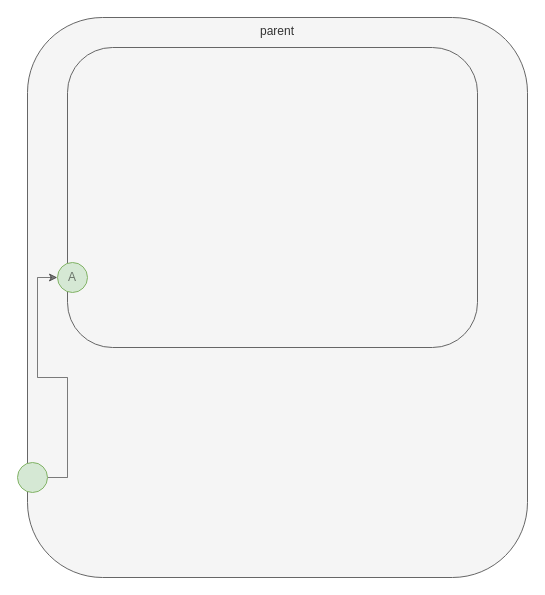
Some shapes in this 545 by 595 pixel diagram are drawn without their labels. The box of each missing label's shape, as (x1, y1, x2, y2) in pixels:
child: (66, 46, 478, 348)
in: (16, 462, 48, 492)
